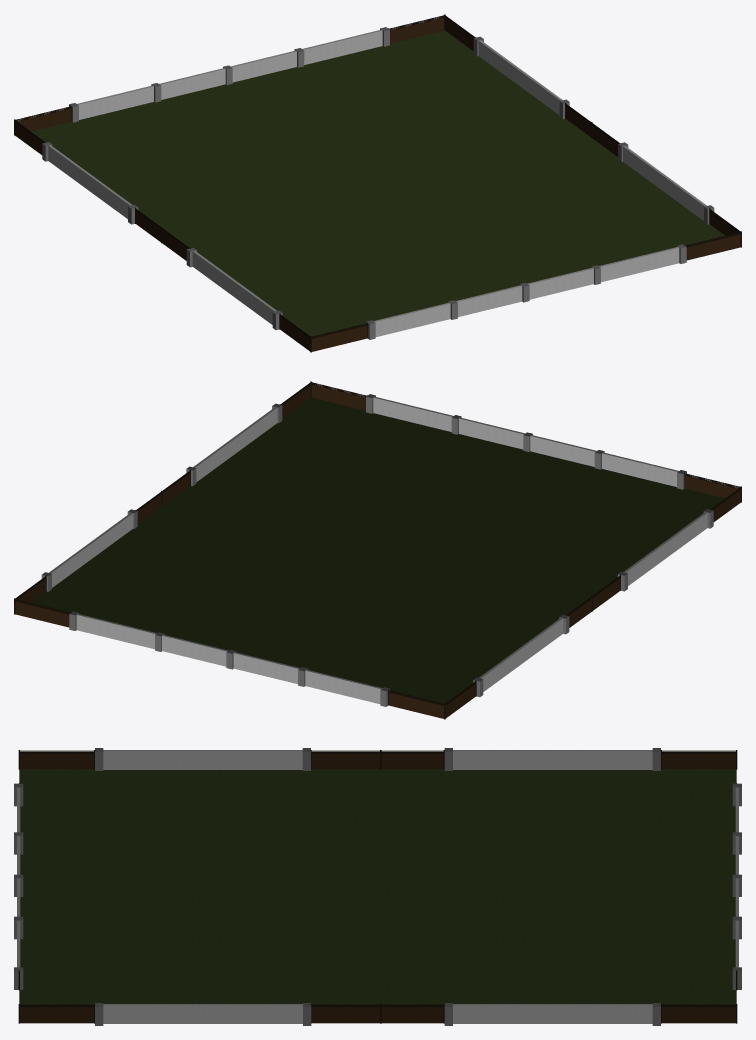
Rendered from Patio_001_LOD0.obj.
3 renders of one model, top to bottom at view 1: azimuth 30°, elevation 25°; view 2: azimuth 150°, elevation 25°; view 3: azimuth 270°, elevation 25°, orthographic. The views are drawn at different scales.
Parts seen in each view (by area): view 1: Floor_001, CompoundWall_001, CompoundWall_002, CompoundWall_004, CompoundWall_003; view 2: Floor_001, CompoundWall_001, CompoundWall_002, CompoundWall_004, CompoundWall_003; view 3: Floor_001, CompoundWall_001, CompoundWall_002, CompoundWall_004, CompoundWall_003.
Part boxes in pixels (bbox=[...]): Floor_001: bbox=[31, 30, 724, 336]; CompoundWall_001: bbox=[48, 29, 706, 336]; CompoundWall_002: bbox=[15, 18, 740, 351]; CompoundWall_004: bbox=[42, 27, 714, 339]; CompoundWall_003: bbox=[14, 14, 741, 352]; Floor_001: bbox=[31, 397, 724, 703]; CompoundWall_001: bbox=[49, 396, 707, 703]; CompoundWall_002: bbox=[15, 385, 740, 718]; CompoundWall_004: bbox=[41, 394, 713, 706]; CompoundWall_003: bbox=[14, 381, 741, 719]; Floor_001: bbox=[19, 769, 736, 1007]; CompoundWall_001: bbox=[17, 750, 738, 1023]; CompoundWall_002: bbox=[20, 753, 735, 1023]; CompoundWall_004: bbox=[14, 748, 741, 1025]; CompoundWall_003: bbox=[18, 750, 737, 1023].
Bounding box in the file's own units: 67.22 × 2.31 × 79.87.
Materials: 5 (4 with a texture image).
